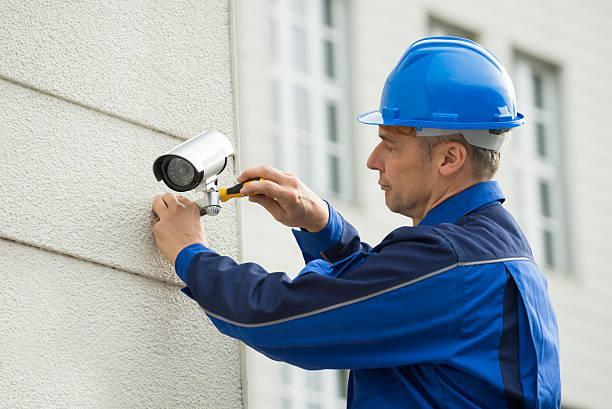camera: (130, 109, 257, 229)
